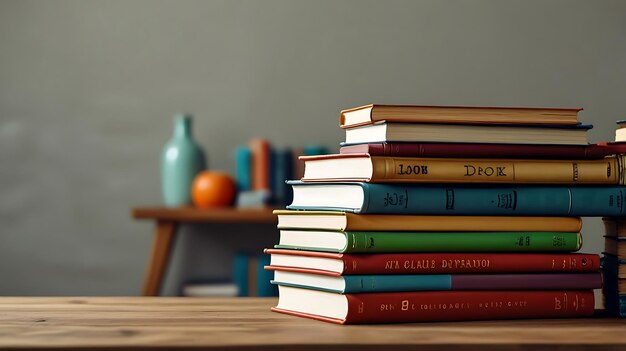not a gesture sign: (265, 249, 599, 276)
